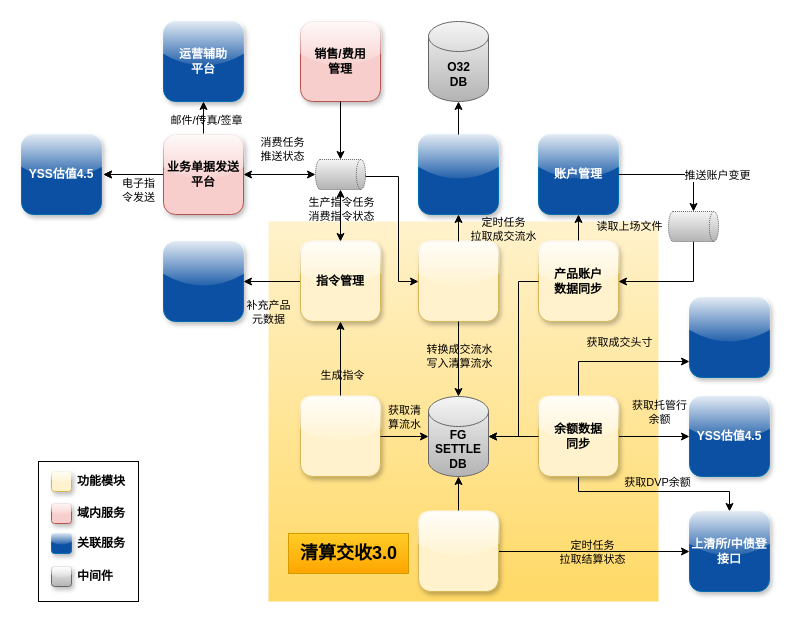
Image size: 793x619. Some labels were removed from this diagram. Here are the shapes that lost their labels. From the top down, the centre of each, then its label:
point 340,174: Kafka
point 459,176: 交换平台
point 693,226: MQ
point 204,282: 产品管理
point 459,282: 清算业务 接收
point 730,338: 头寸管理
point 341,438: 清算业务 执行
point 459,552: 结算状态 同步
